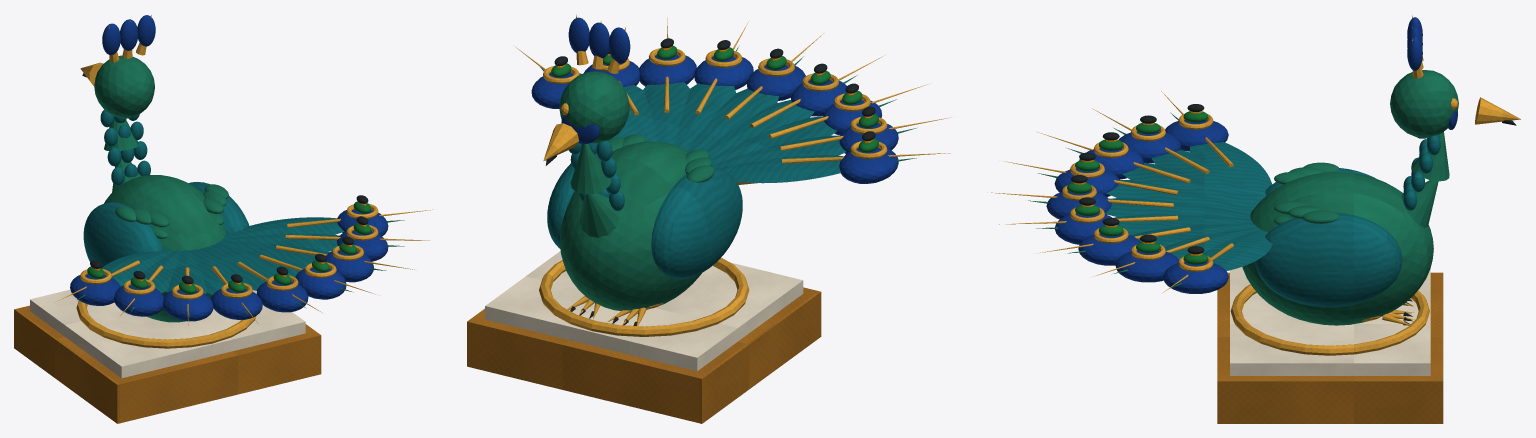
The model's file is Royal_India_Peacock_Statue.glb.
3 renders of one model, left to right at view 1: azimuth 30°, elevation 25°; view 2: azimuth 150°, elevation 25°; view 3: azimuth 270°, elevation 25°, orthographic. The views are drawn at different scales.
Visible parts, largest first — view 1: red_peacock_teal_feather, red_peacock_brass, red_peacock_jade, red_peacock_blue_enamel, red_peacock_marble, red_peacock_gold, red_peacock_green_enamel, red_peacock_dark; view 2: red_peacock_teal_feather, red_peacock_jade, red_peacock_brass, red_peacock_marble, red_peacock_blue_enamel, red_peacock_gold, red_peacock_green_enamel, red_peacock_dark; view 3: red_peacock_teal_feather, red_peacock_jade, red_peacock_brass, red_peacock_marble, red_peacock_blue_enamel, red_peacock_gold, red_peacock_green_enamel, red_peacock_dark.
Part boxes in pixels (left/top/right/bottom): red_peacock_teal_feather: left=83, top=109, right=344, bottom=294; red_peacock_brass: left=14, top=305, right=321, bottom=423; red_peacock_jade: left=77, top=55, right=404, bottom=322; red_peacock_blue_enamel: left=70, top=15, right=388, bottom=321; red_peacock_marble: left=30, top=289, right=305, bottom=378; red_peacock_gold: left=56, top=15, right=433, bottom=348; red_peacock_green_enamel: left=87, top=201, right=371, bottom=294; red_peacock_dark: left=82, top=73, right=368, bottom=284; red_peacock_teal_feather: left=547, top=82, right=846, bottom=279; red_peacock_jade: left=540, top=45, right=917, bottom=310; red_peacock_brass: left=467, top=287, right=821, bottom=423; red_peacock_marble: left=485, top=251, right=803, bottom=371; red_peacock_blue_enamel: left=531, top=17, right=898, bottom=183; red_peacock_gold: left=516, top=14, right=951, bottom=336; red_peacock_green_enamel: left=551, top=45, right=878, bottom=152; red_peacock_dark: left=545, top=38, right=875, bottom=325; red_peacock_teal_feather: left=1105, top=134, right=1440, bottom=307; red_peacock_jade: left=1028, top=70, right=1458, bottom=325; red_peacock_brass: left=1217, top=272, right=1443, bottom=423; red_peacock_marble: left=1230, top=267, right=1430, bottom=375; red_peacock_blue_enamel: left=1046, top=17, right=1457, bottom=293; red_peacock_gold: left=987, top=15, right=1520, bottom=355; red_peacock_green_enamel: left=1067, top=111, right=1208, bottom=264; red_peacock_dark: left=1071, top=104, right=1516, bottom=325.
Size of the model in its own units: 1.54 by 1.21 by 1.71.
9 materials, 9 textured.
